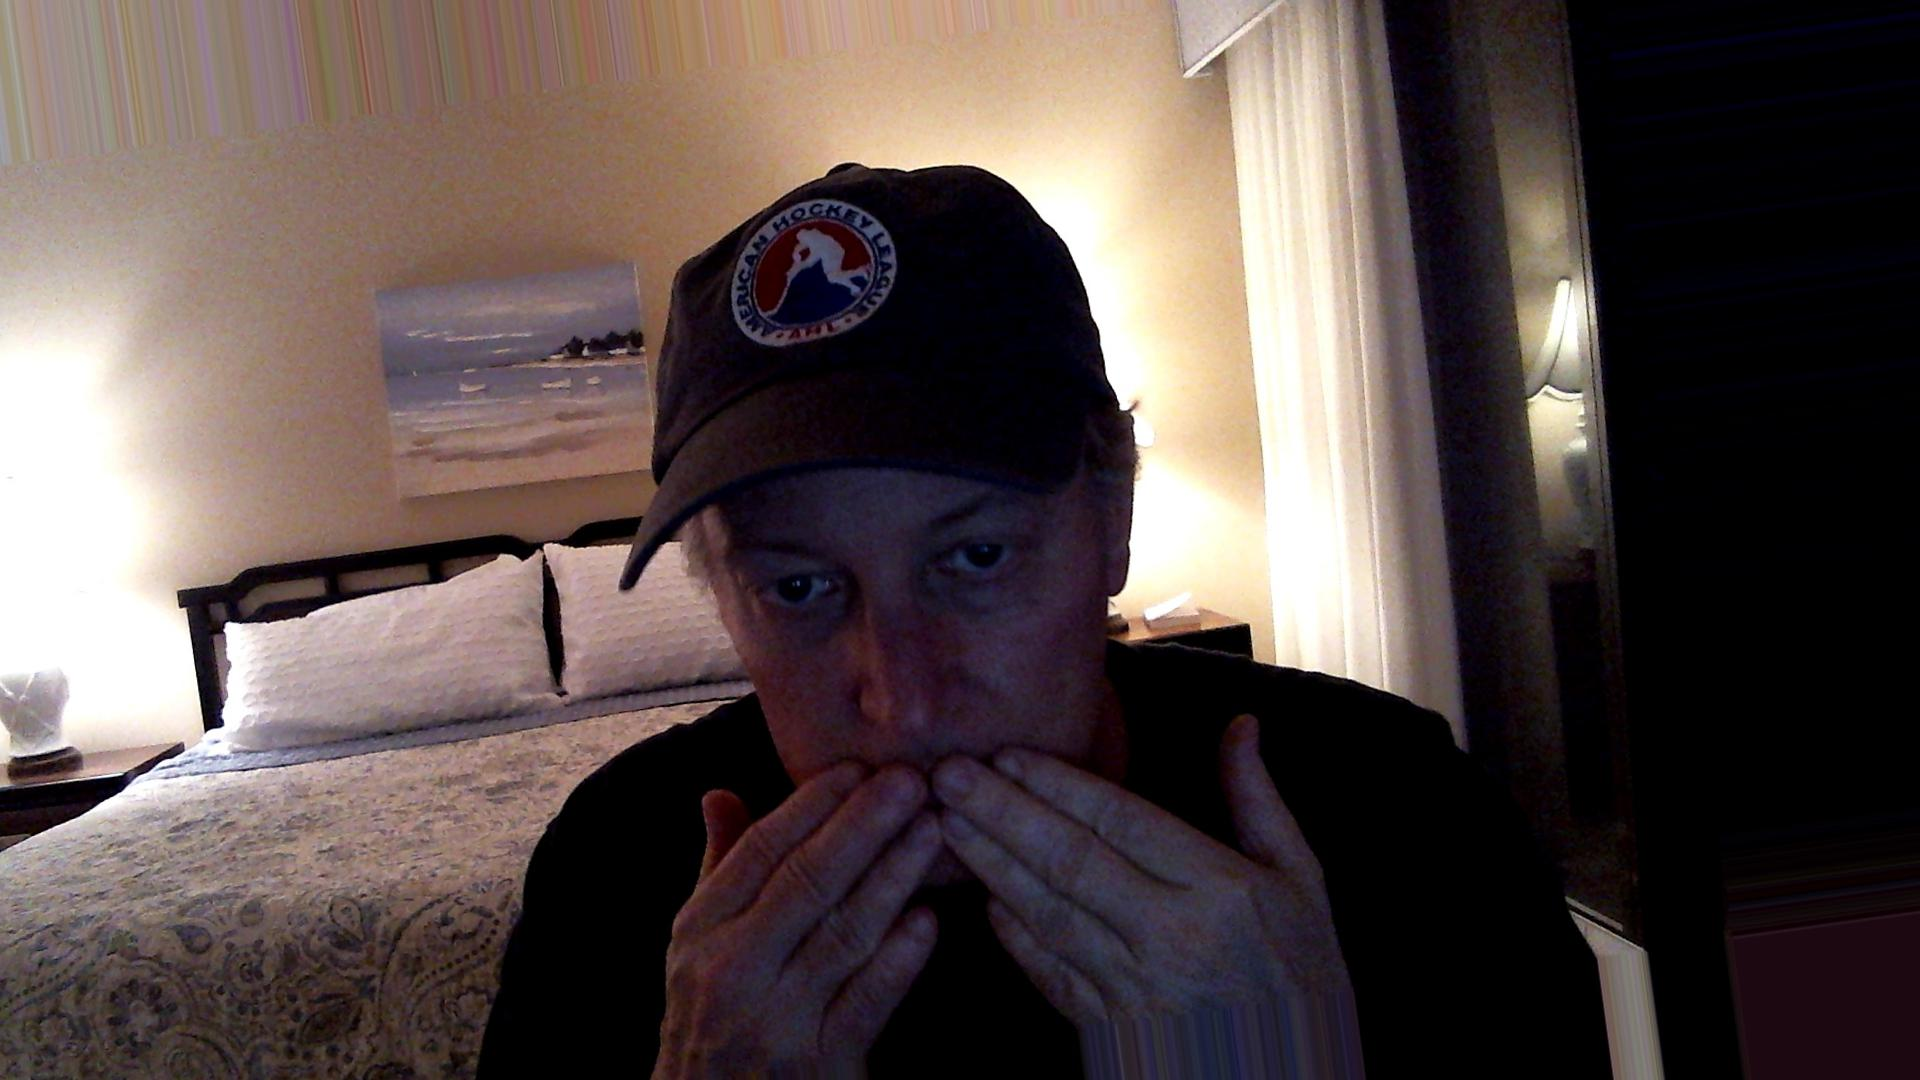Thank You: (653, 708, 1356, 1005)
